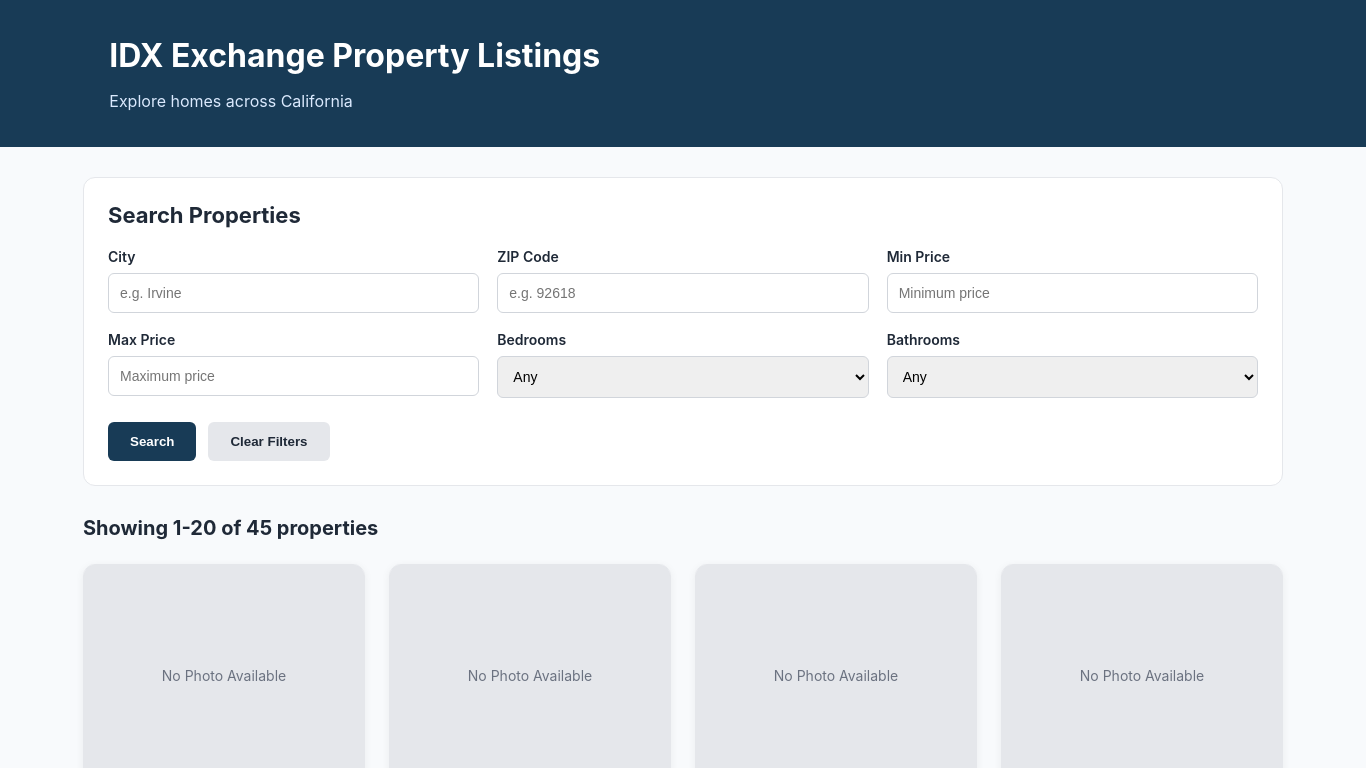
Scenario: ListingsPage Pagination Integration › resets pagination when clearing filters
The image size is (1366, 768).
Type "Irvine" into the field labelled "City".
click(294, 293); type("Irvine")  # box x1=108 y1=273 x2=479 y2=313
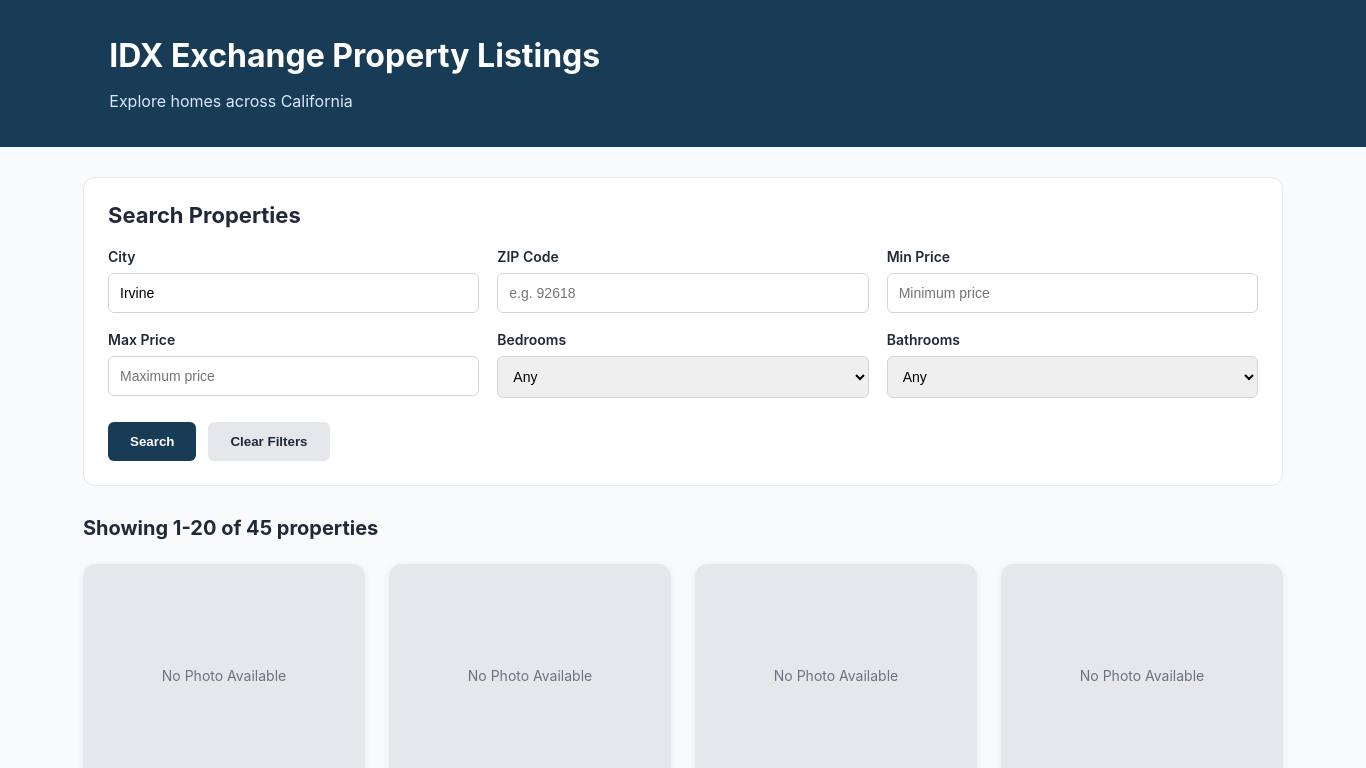
Click the button "Search".
click(152, 442)  # box x1=108 y1=422 x2=196 y2=461
(page scrolled)
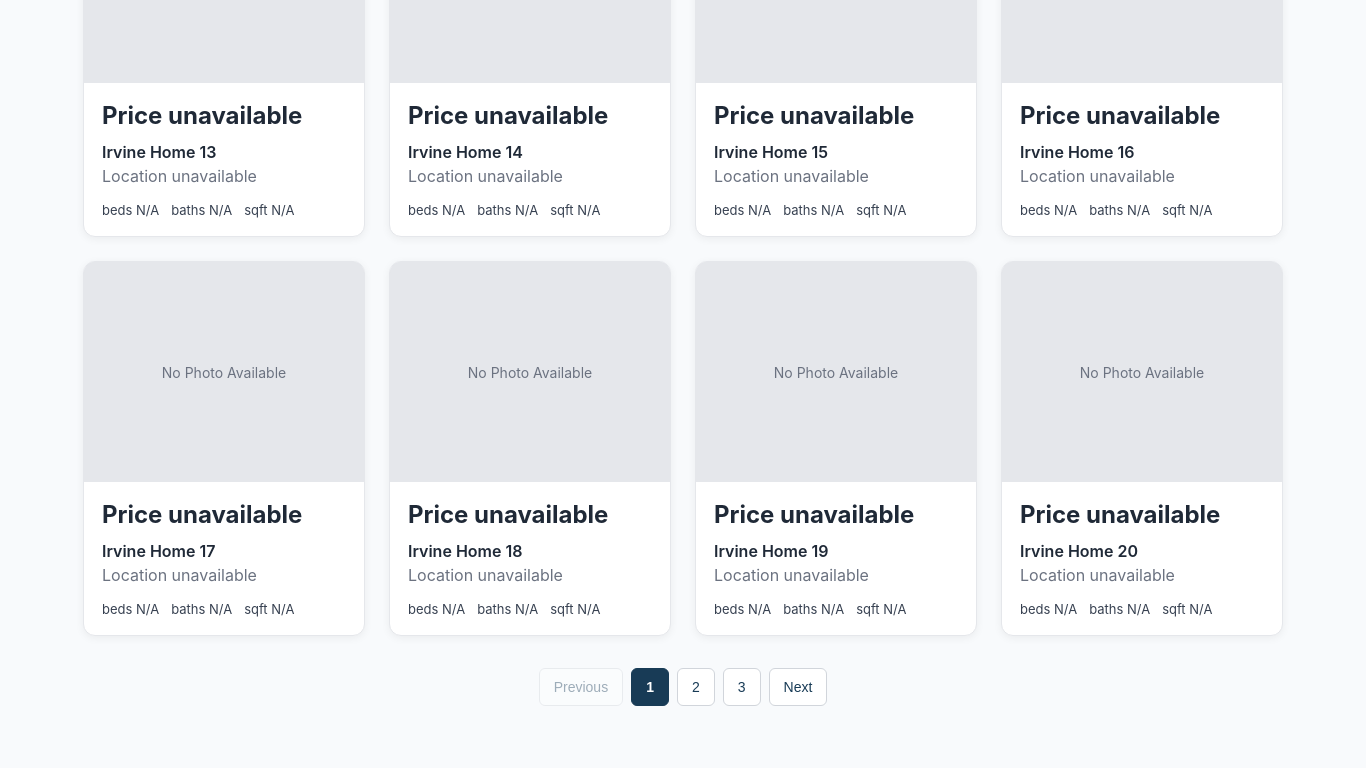
Click the button "2".
click(696, 687)  # box x1=677 y1=668 x2=715 y2=706
(page scrolled)
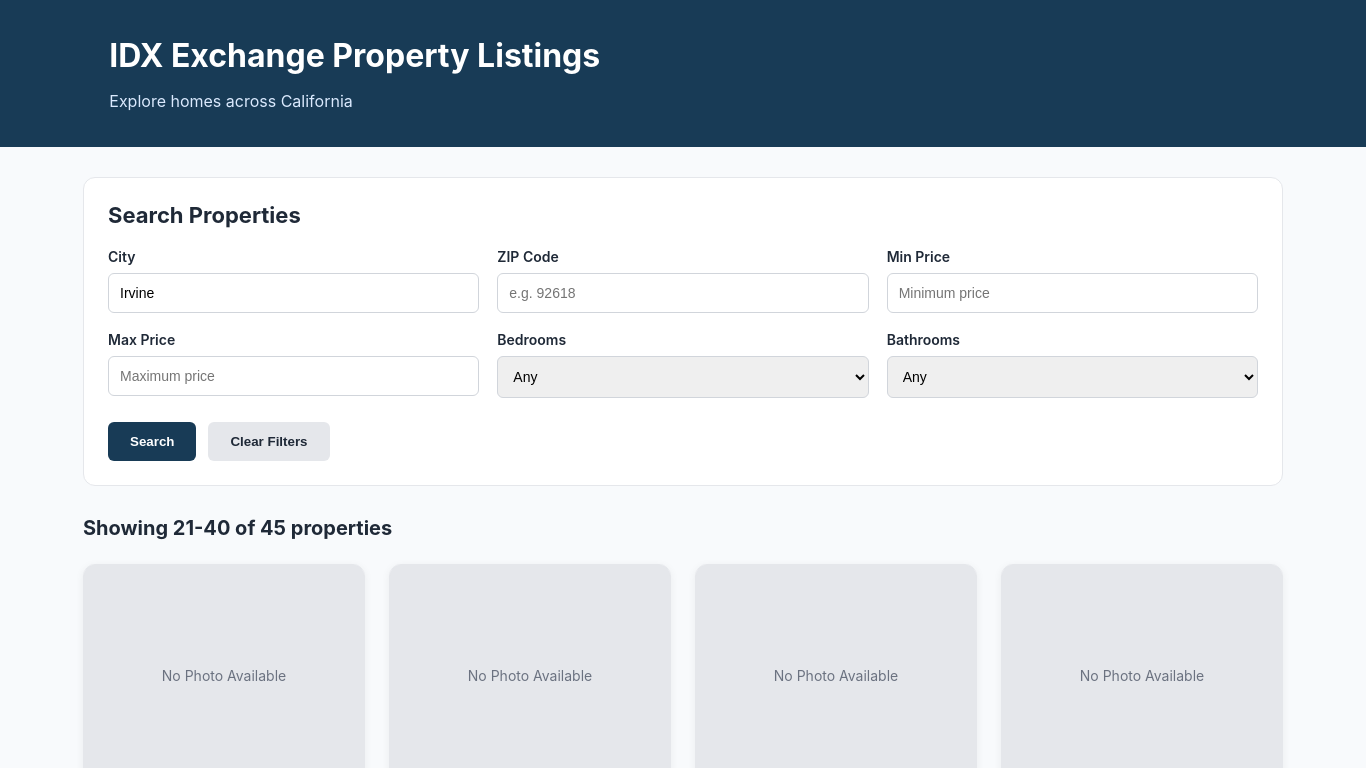
Click the button "Clear Filters".
click(269, 442)  # box x1=208 y1=422 x2=330 y2=461
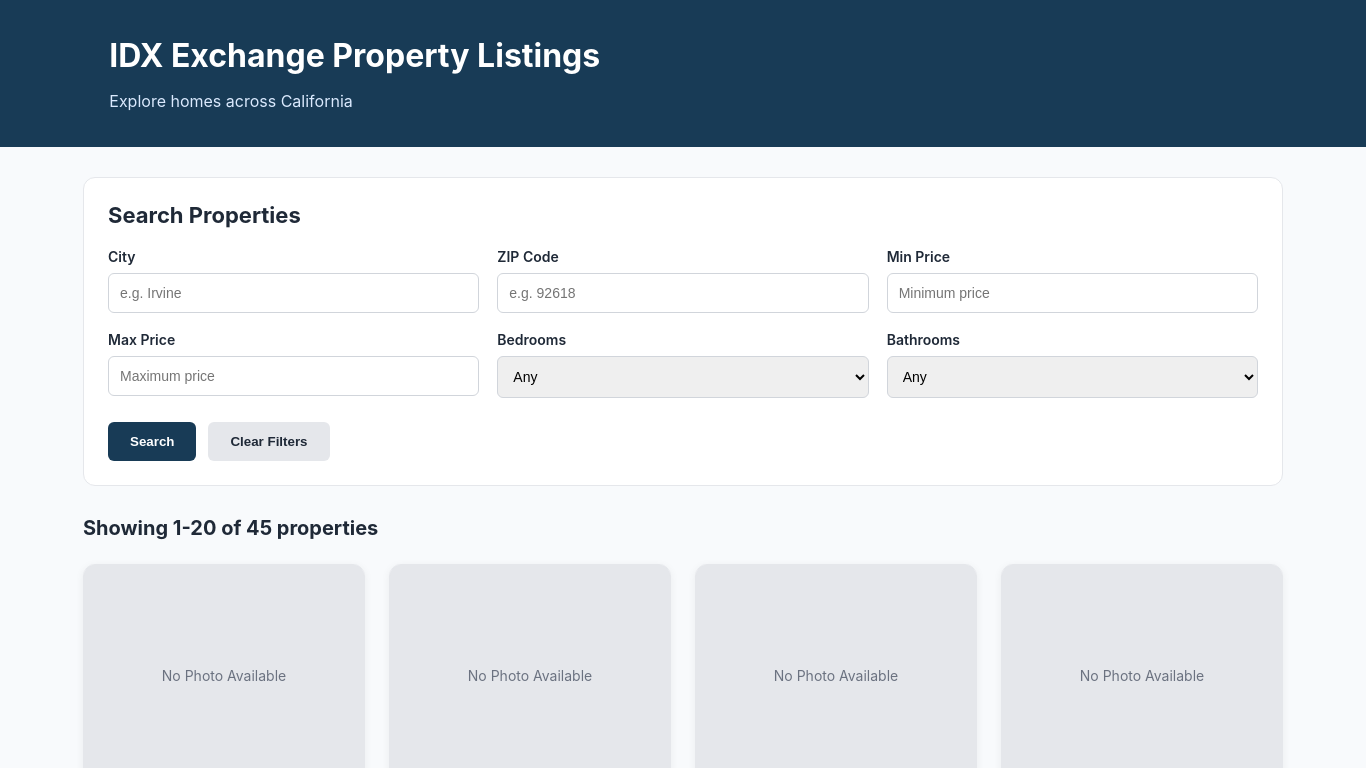
Expected: the field labelled "City" is empty, x1=108 y1=273 x2=479 y2=313
Expected: the heading "Showing 1-20 of 45 properties" is shown, x1=83 y1=516 x2=378 y2=540
